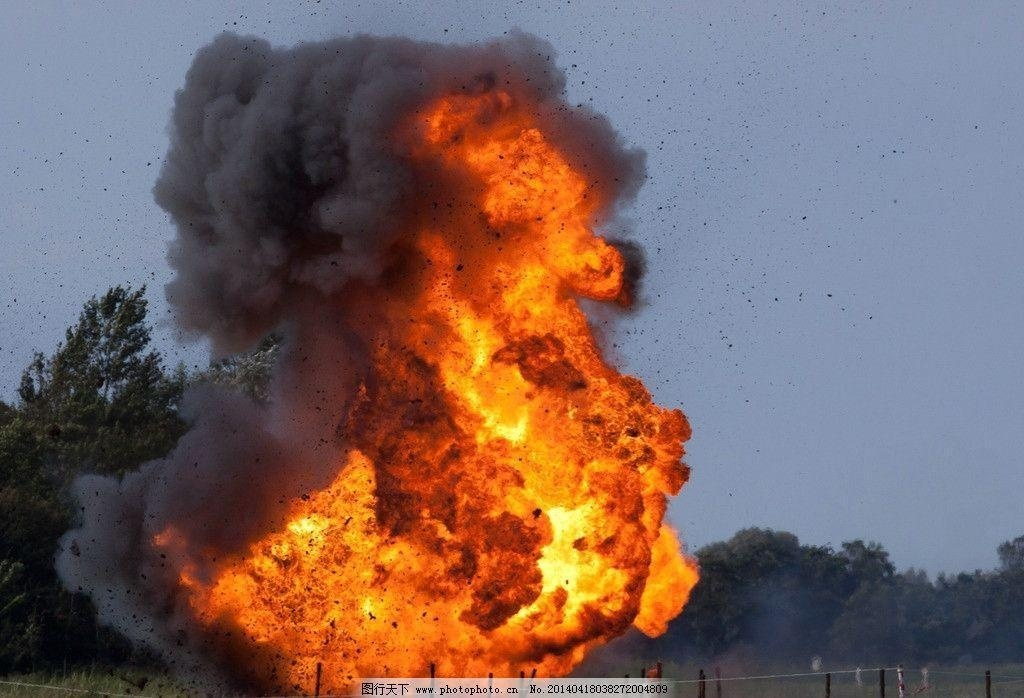fire: (186, 62, 712, 680)
